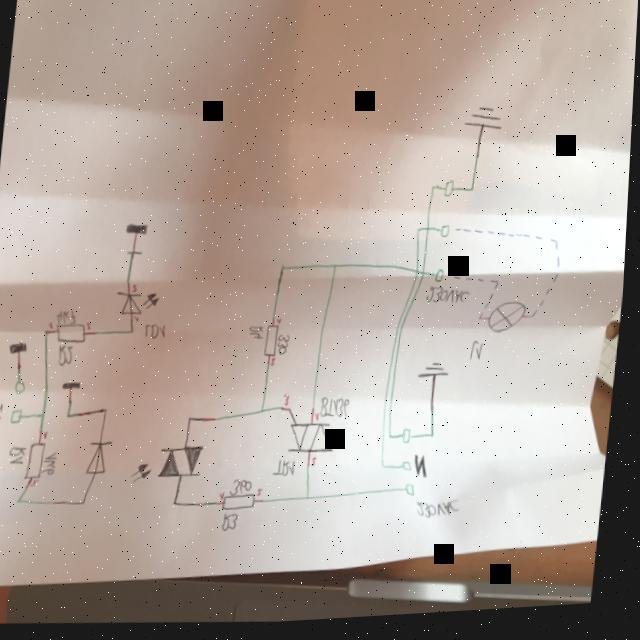crossover: (426, 229, 433, 239), (416, 274, 422, 281), (423, 275, 428, 283)
diode: (116, 291, 162, 321)
ground: (462, 108, 508, 142), (419, 364, 455, 388), (125, 221, 152, 241), (9, 338, 33, 360), (64, 379, 85, 395)
junction: (281, 267, 289, 275), (262, 410, 270, 418), (18, 498, 26, 506), (384, 467, 391, 476), (45, 328, 51, 338), (190, 418, 197, 426), (175, 502, 182, 510), (105, 409, 112, 417), (417, 231, 423, 240), (309, 497, 315, 506), (44, 412, 50, 421), (496, 285, 503, 292), (470, 192, 477, 199), (480, 320, 486, 328), (555, 245, 561, 253), (391, 438, 397, 446), (334, 266, 340, 274), (69, 413, 75, 421), (433, 437, 439, 445), (532, 320, 538, 327), (431, 190, 437, 197), (85, 501, 91, 508), (131, 330, 137, 337), (291, 410, 296, 418)
resistor: (27, 441, 50, 482), (56, 323, 90, 346), (226, 494, 261, 516), (265, 326, 283, 362)
terminal: (12, 408, 27, 427), (16, 380, 29, 397), (408, 488, 420, 503), (405, 465, 416, 478)
text: (419, 502, 467, 528), (426, 289, 474, 312), (323, 399, 355, 424), (44, 450, 63, 479), (144, 323, 170, 344), (415, 458, 434, 486), (275, 461, 301, 481), (58, 345, 77, 370), (11, 446, 32, 468), (0, 400, 8, 456), (234, 481, 257, 500), (225, 515, 245, 536), (57, 309, 80, 326), (471, 345, 487, 369), (249, 327, 268, 345), (278, 337, 292, 360), (32, 479, 44, 490), (285, 397, 294, 411), (259, 491, 268, 501), (313, 461, 322, 471), (132, 285, 141, 295), (46, 430, 53, 442), (87, 322, 95, 332), (222, 493, 229, 504), (317, 416, 324, 426), (272, 361, 279, 371), (49, 321, 56, 331), (135, 317, 143, 325), (278, 320, 284, 328)
